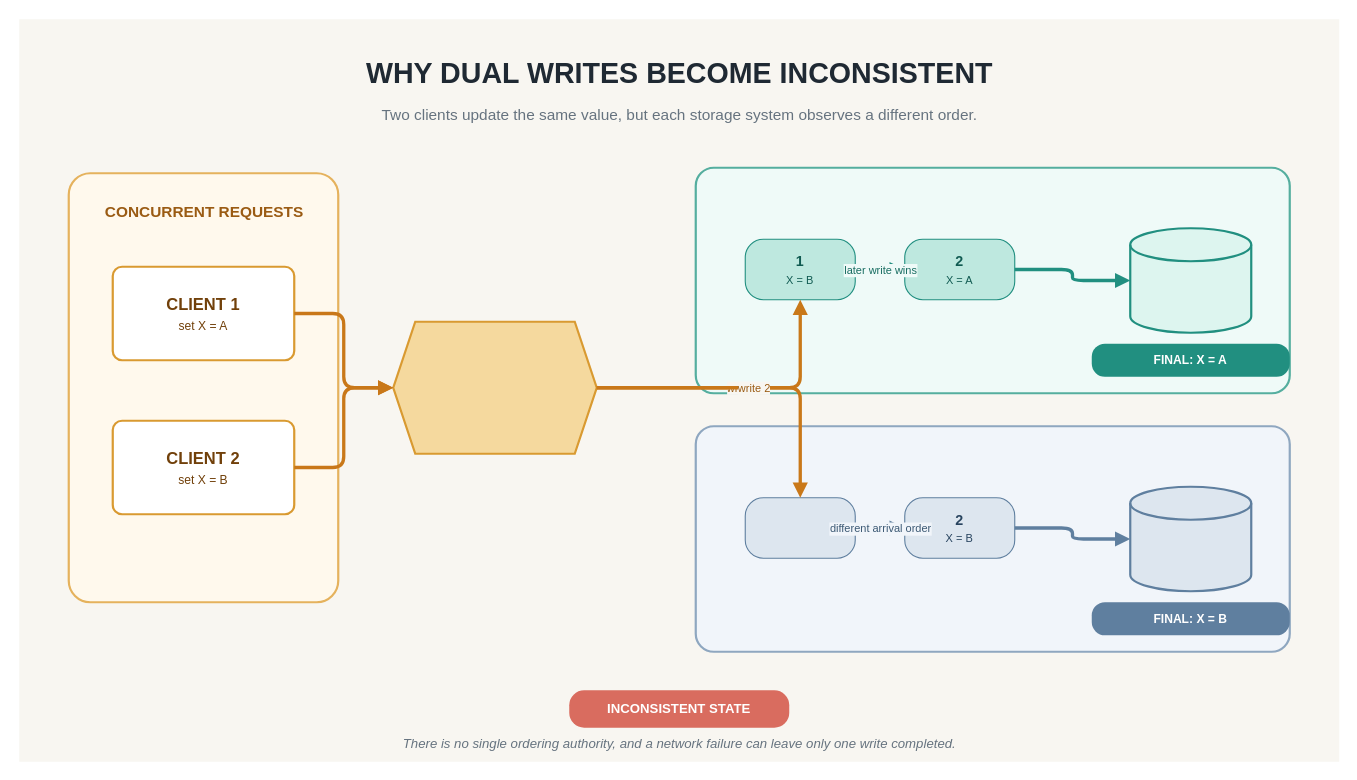
The diagram is 1357 pixels wide and 780 high, and some of its shapes have lost their labels. The box of each missing label's shape, as (x1, y1, x2, y2) in pixels:
1 X = A: (744, 497, 855, 558)
APPLICATION writes both systems: (392, 320, 597, 454)
DATABASE: (1129, 227, 1252, 333)
SEARCH INDEX: (1129, 485, 1252, 592)
